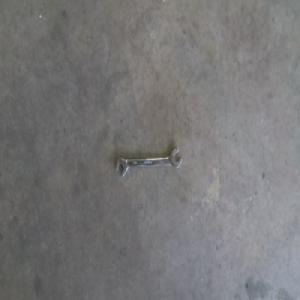Wrench: (116, 142, 182, 169)
